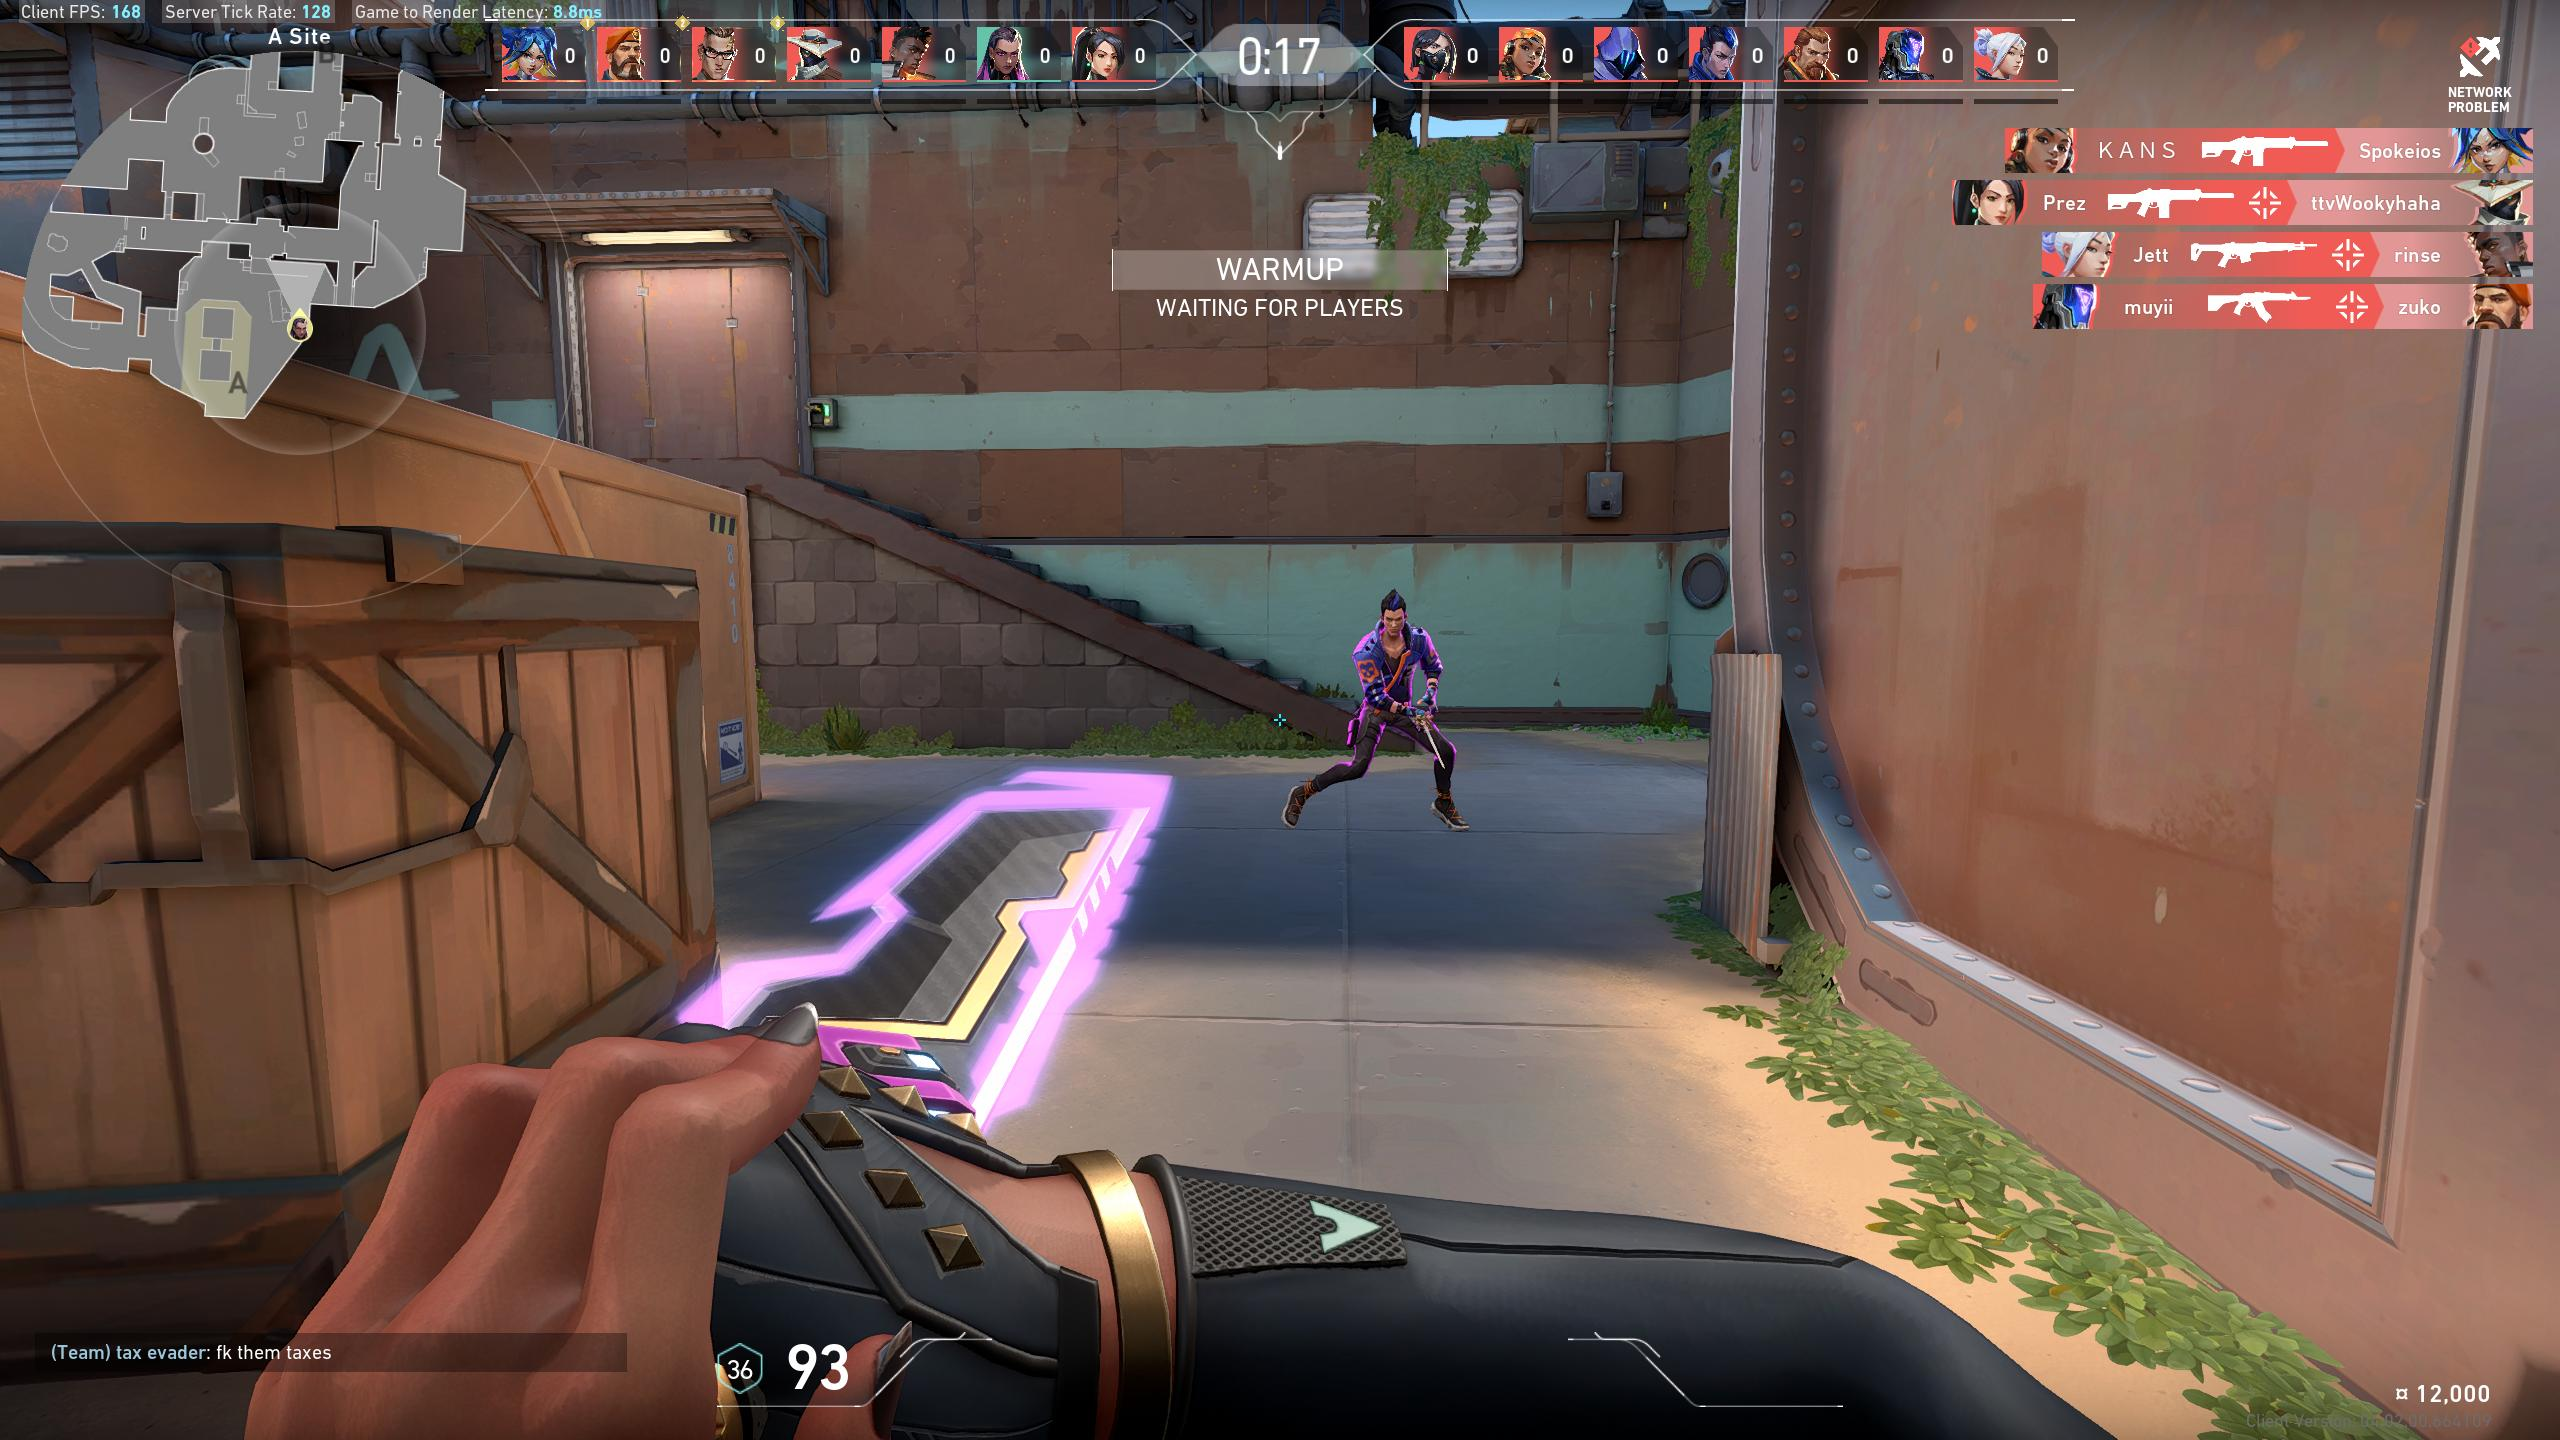enemyBody: (1370, 642, 1415, 700)
enemyHead: (1384, 607, 1405, 635)
